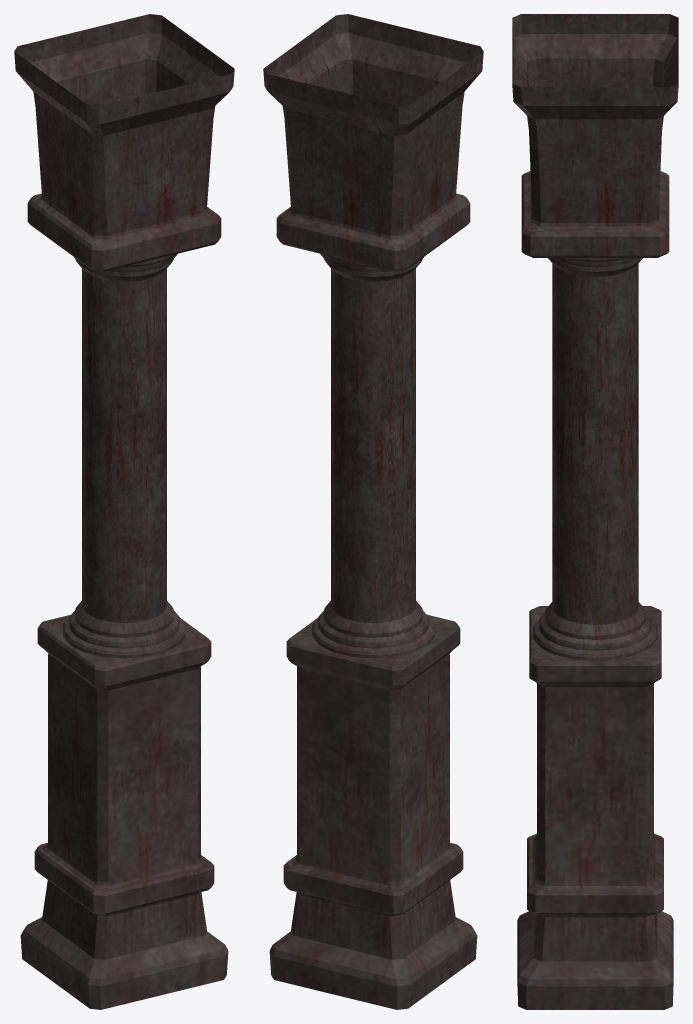
Rendered from prop_pillar.glb.
The picture shows the model from 3 angles, left to right: view 1: azimuth 30°, elevation 25°; view 2: azimuth 150°, elevation 25°; view 3: azimuth 270°, elevation 25°; orthographic projection.
Parts seen in each view (by area): view 1: lowpoly; view 2: lowpoly; view 3: lowpoly.
Boxes of the visible parts, x1,y1,x2,y2 form: lowpoly: (14, 14, 234, 1009); lowpoly: (263, 14, 483, 1009); lowpoly: (512, 14, 678, 1009).
Size of the model in its own units: 0.8513 by 5 by 0.8159.
Materials: 1 (1 with a texture image).
